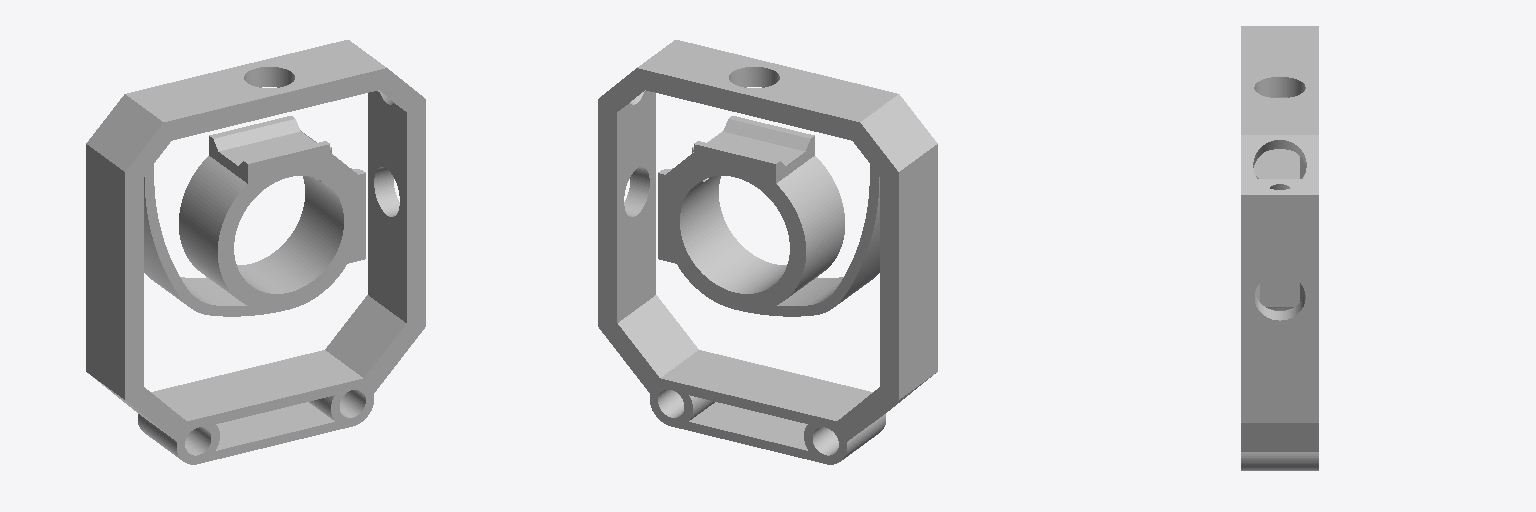
The model's file is V5_Laser Holder (Battery Laser).obj.
3 renders of one model, left to right at view 1: azimuth 30°, elevation 25°; view 2: azimuth 150°, elevation 25°; view 3: azimuth 270°, elevation 25°, orthographic.
Visible parts, largest first — view 1: Solid1:26; view 2: Solid1:26; view 3: Solid1:26.
Part boxes in pixels (x1,y1,x2,y2): Solid1:26: (86, 40, 425, 464); Solid1:26: (598, 40, 937, 464); Solid1:26: (1241, 26, 1318, 470).
Size of the model in its own units: 38.94 by 43.33 by 8.75.